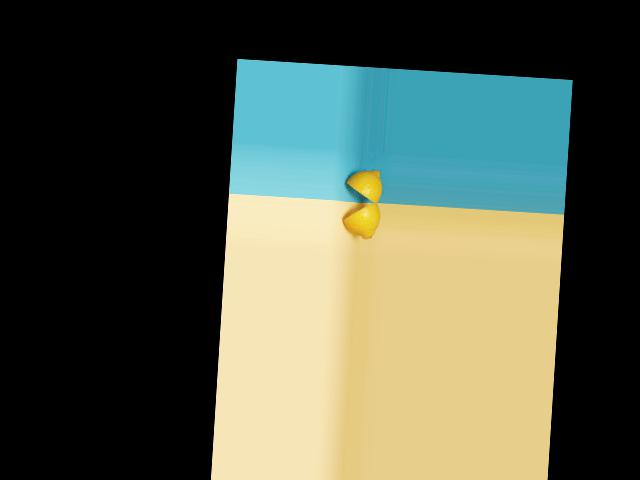lemon: (342, 163, 385, 205)
